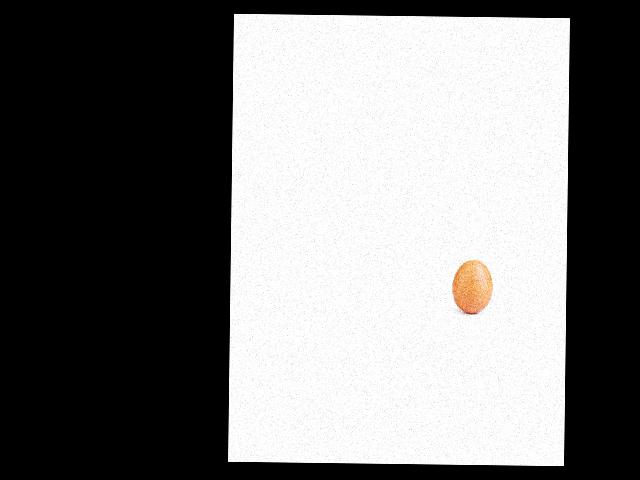egg: (451, 260, 492, 313)
